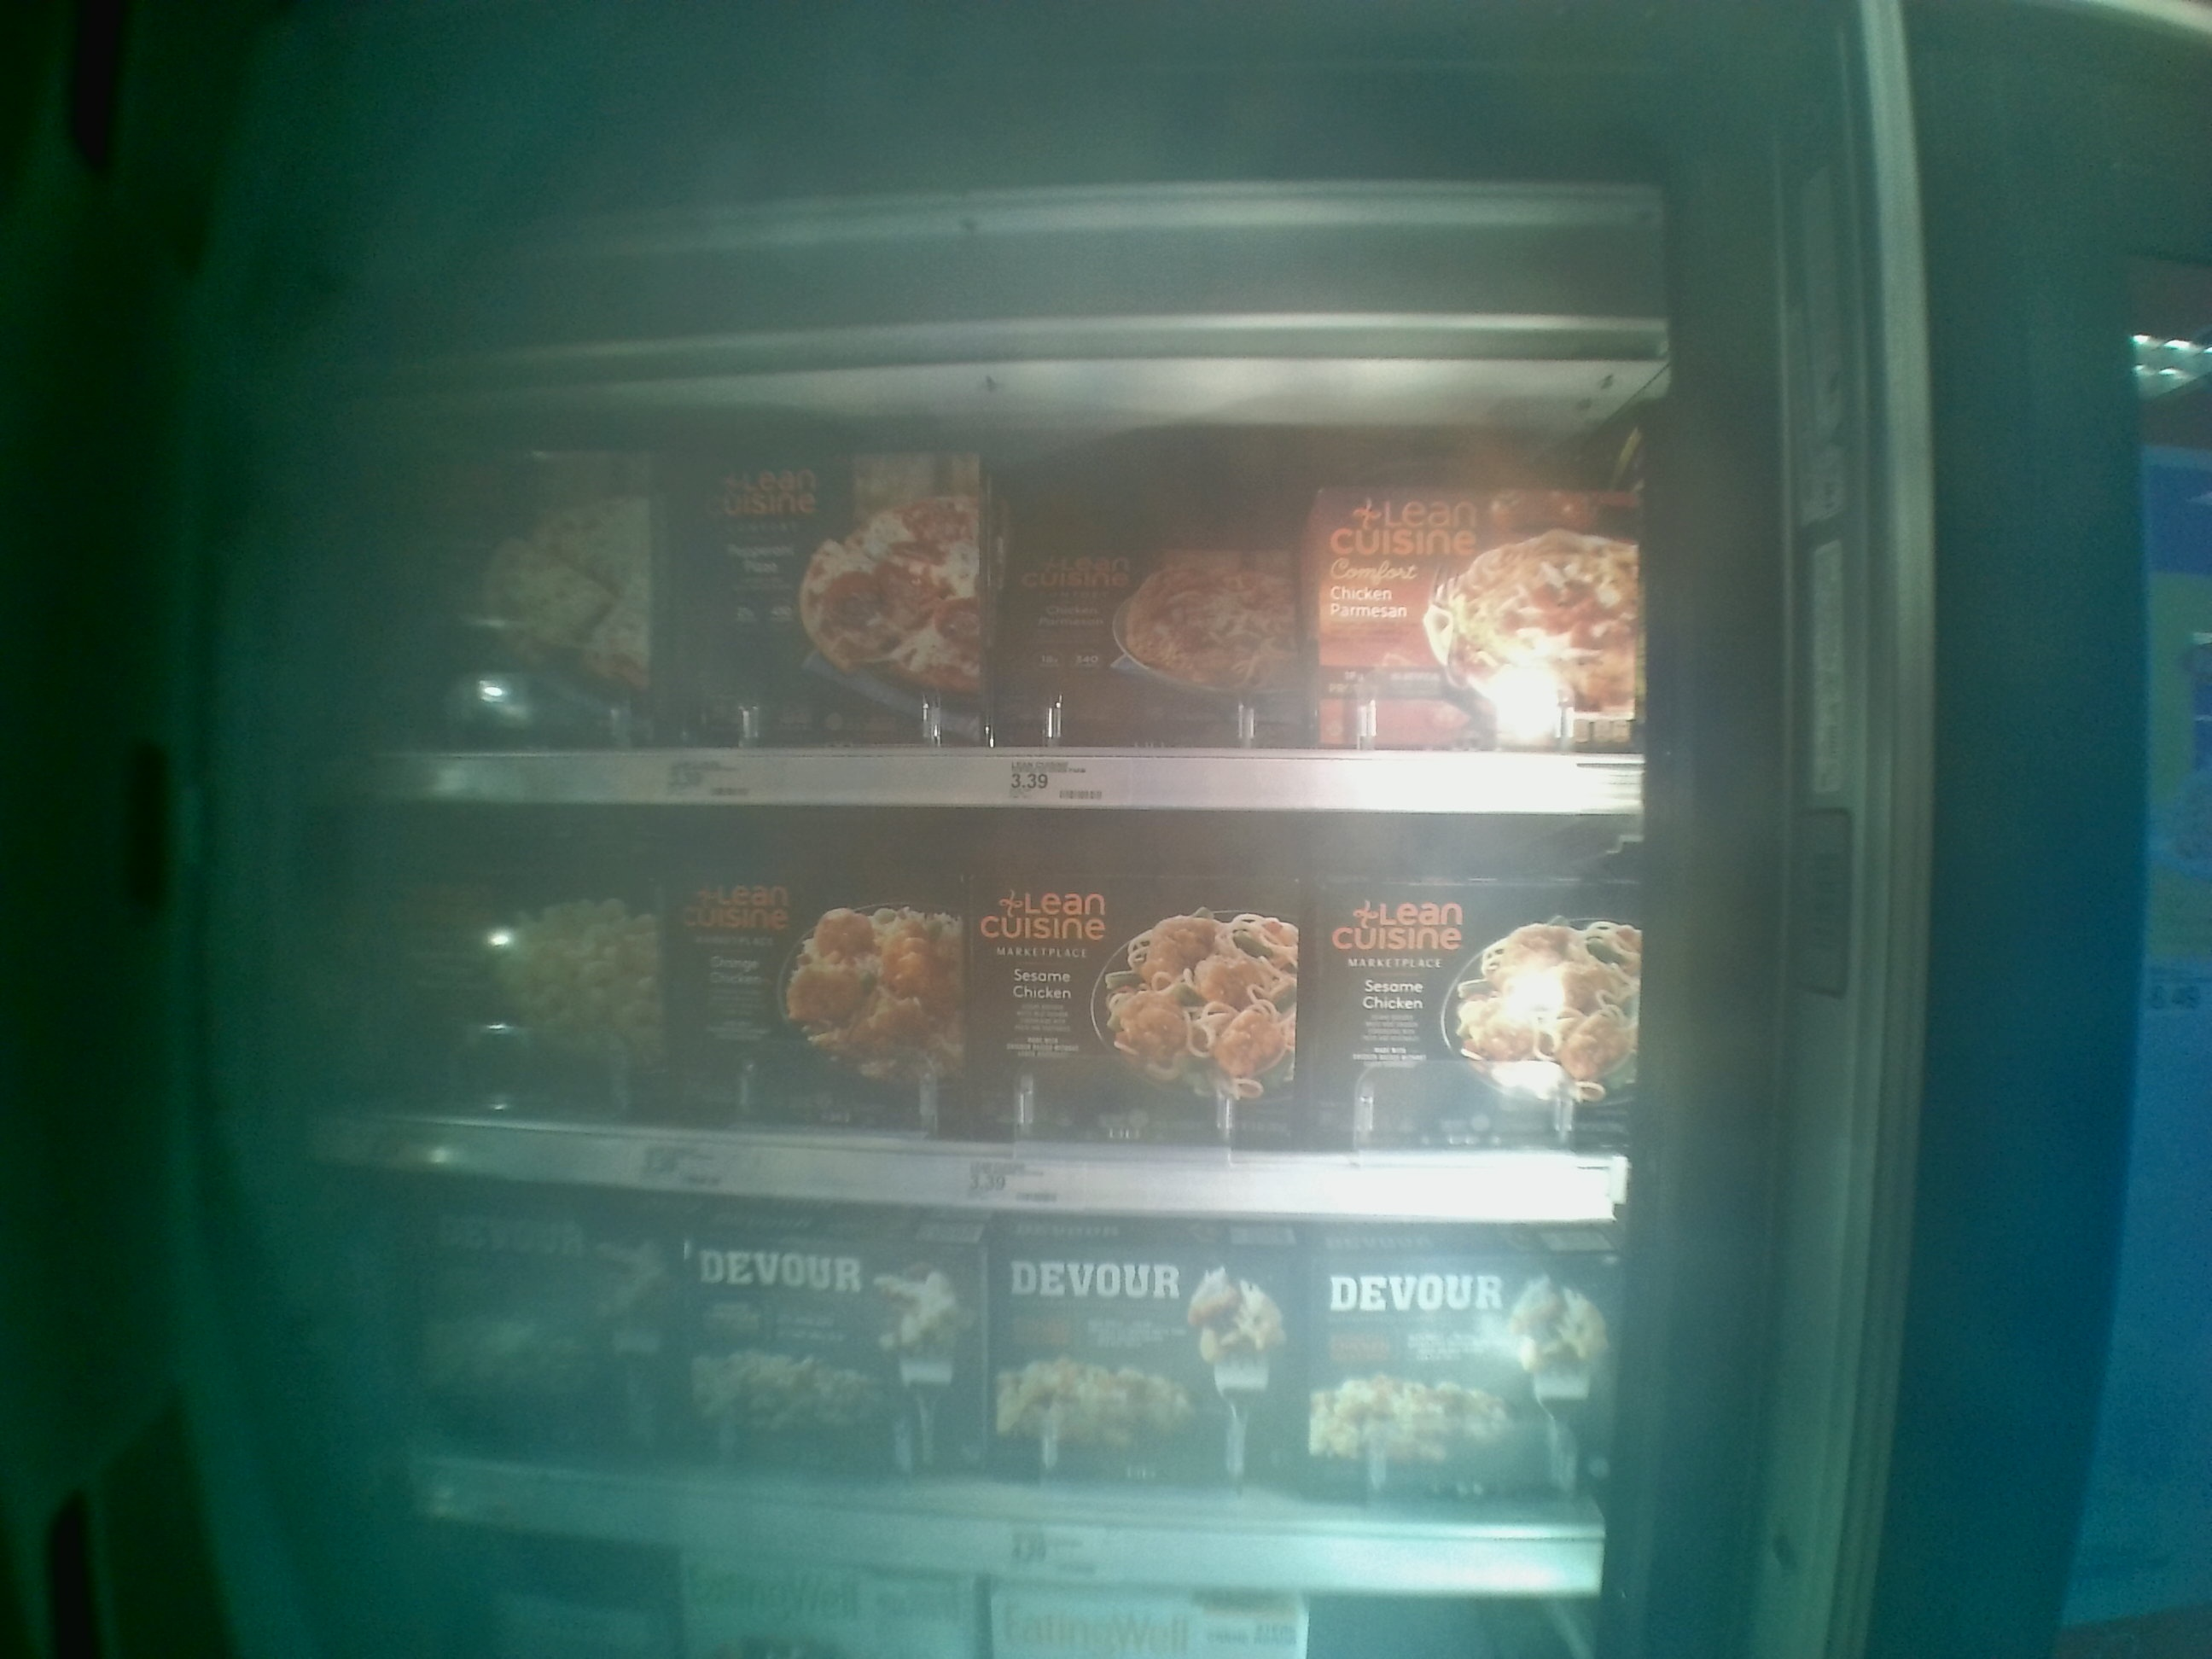shelf: (354, 380, 1649, 821), (354, 810, 1634, 1229), (348, 1190, 1615, 1598)
